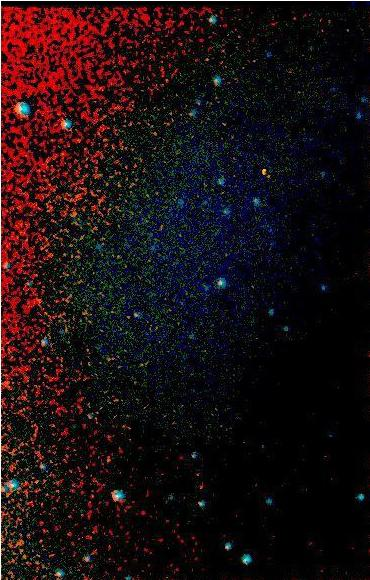star: (127, 497, 157, 527)
